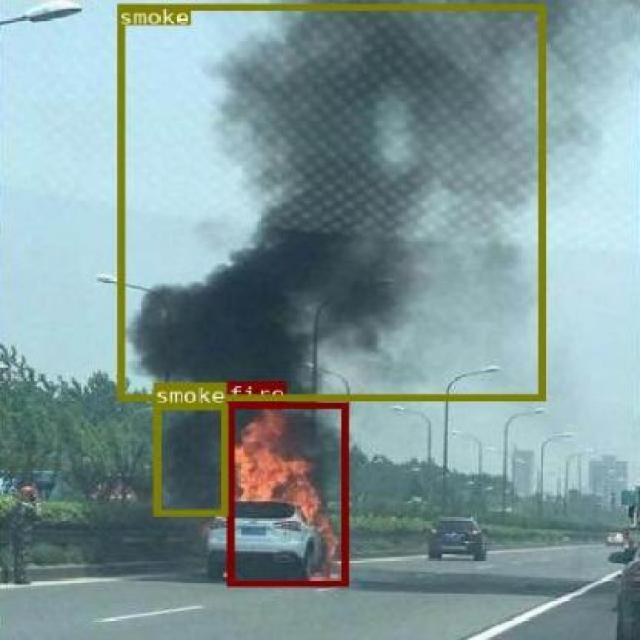fire: (226, 400, 346, 586)
smoke: (117, 3, 543, 399), (151, 402, 227, 516)
